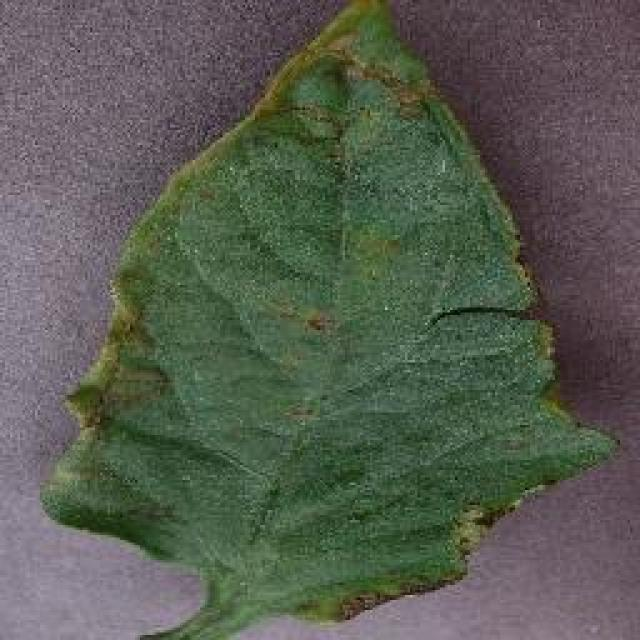Tomato bacterial spot leaf: (33, 0, 621, 628)
